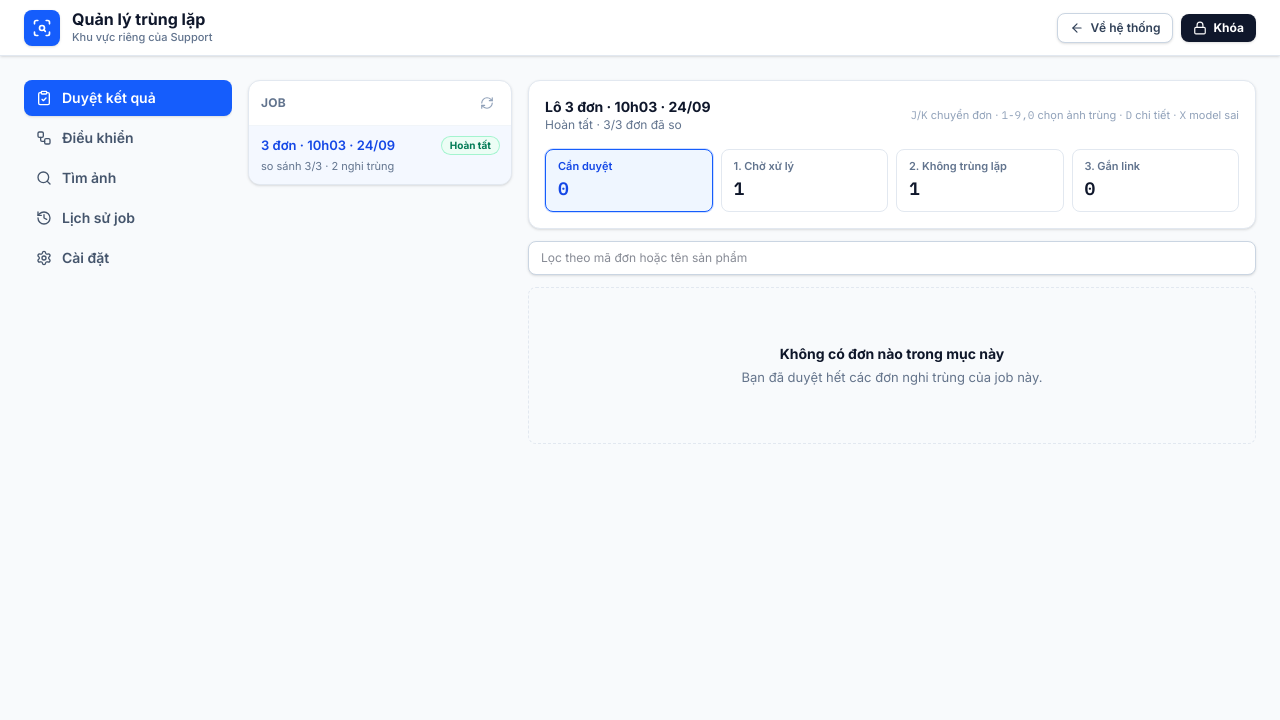
Test case: duplicate review page › lets an unsent pair go back to be picked again, and hides Model sai once the model is already wrong
What coordinates should you click on to do the following:
click the tab "1. Chờ xử lý 1"
I would click on:
 (804, 180)
Its box is [720,149,888,212].
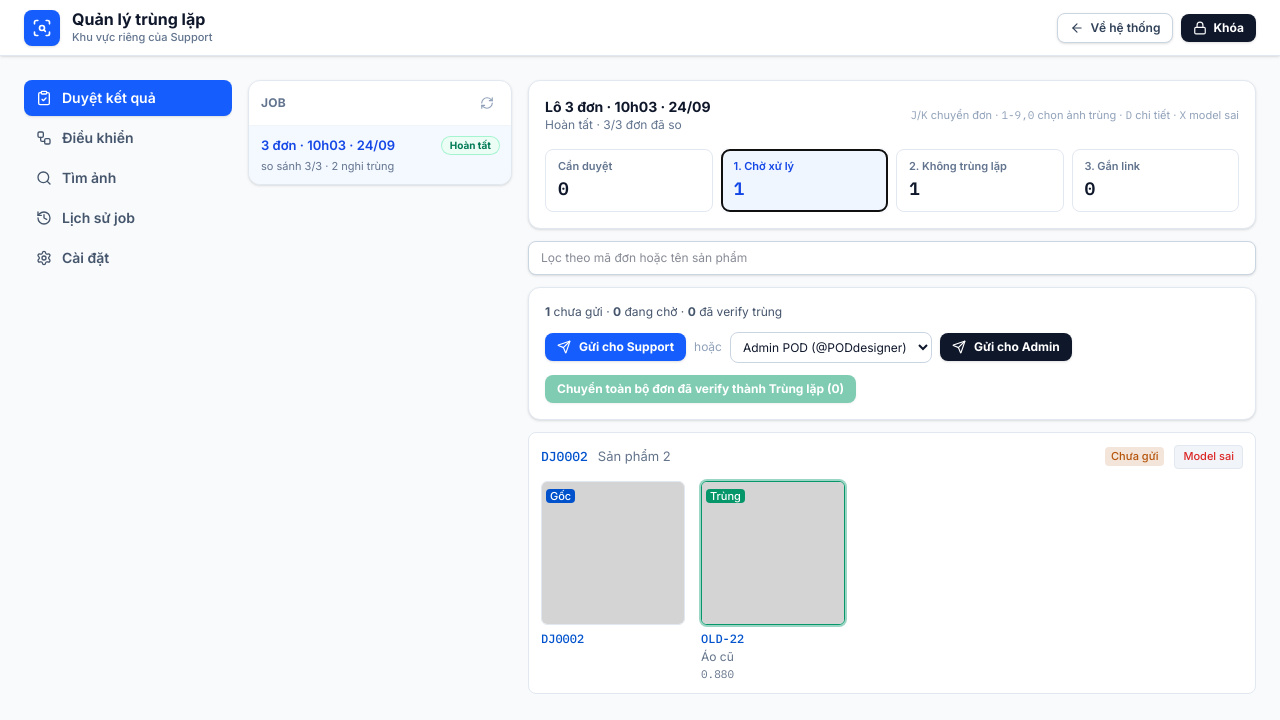
What coordinates should you click on to do the following:
click the button "Model sai"
I would click on:
 (1209, 456)
Its box is [1174,444,1243,468].
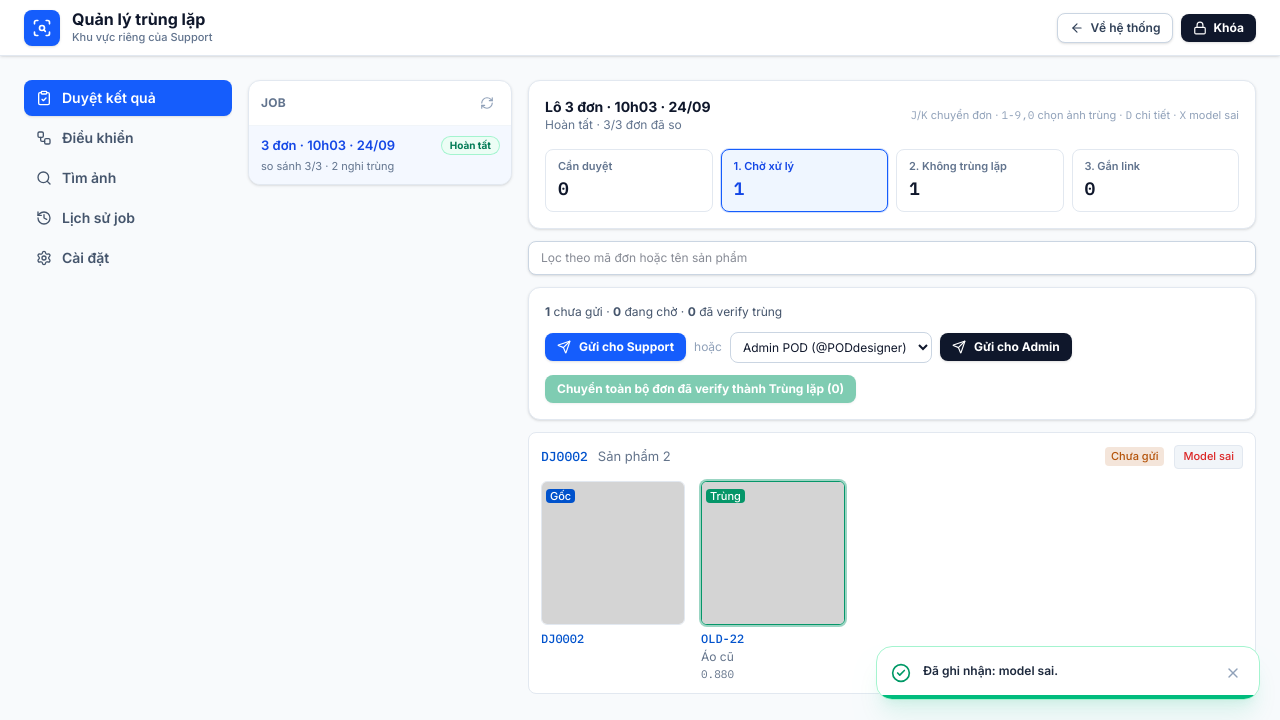
What coordinates should you click on to do the following:
click the tab "2. Không trùng lặp 1"
I would click on:
 (980, 180)
Its box is [896,149,1064,212].
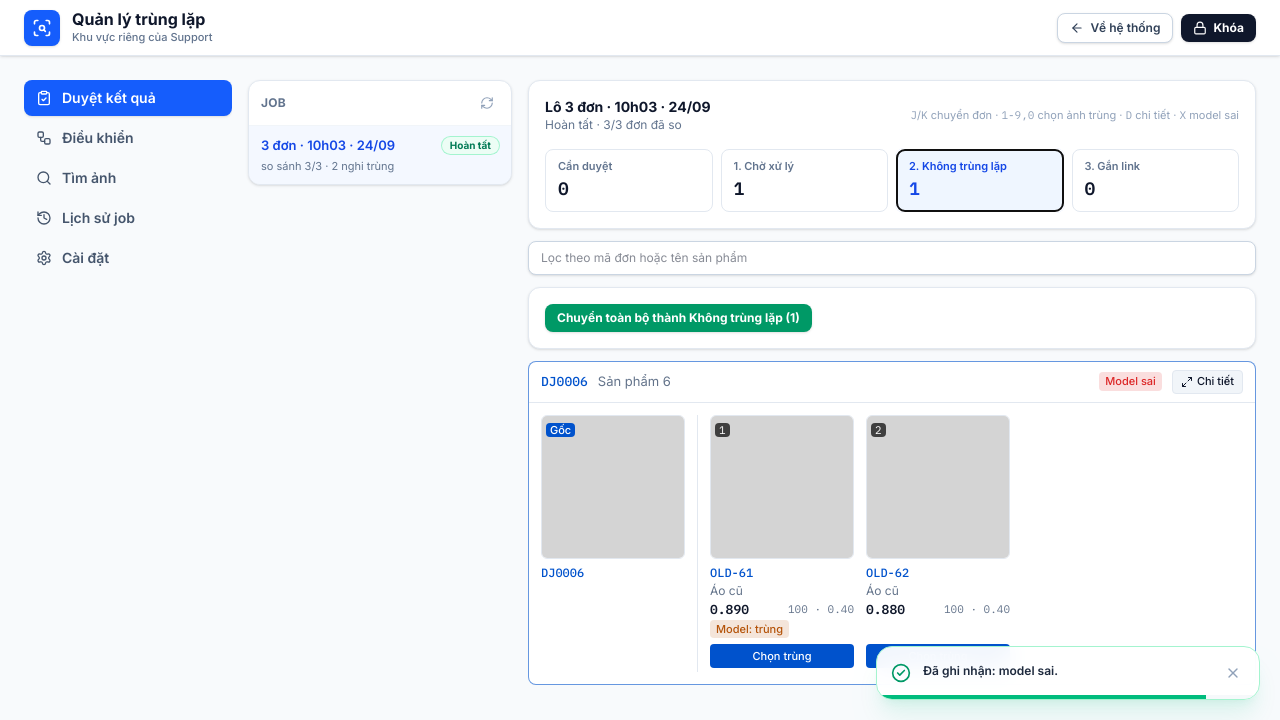
Expected: the button "Chọn trùng" is shown, [710,644,854,668]
